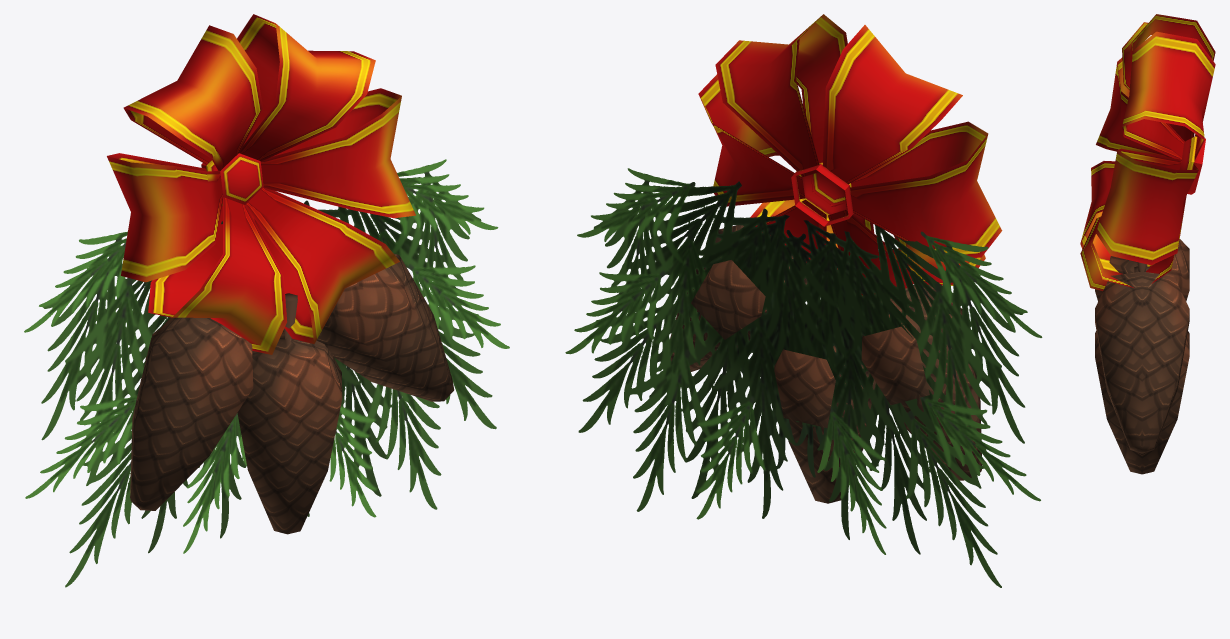
The model's file is PineFruit_Ribbon.FBX.
The picture shows the model from 3 angles, left to right: view 1: azimuth 30°, elevation 25°; view 2: azimuth 150°, elevation 25°; view 3: azimuth 270°, elevation 25°; orthographic projection. The views are drawn at different scales.
Parts seen in each view (by area): view 1: Object020; view 2: Object020; view 3: Object020.
Boxes of the visible parts, x1,y1,x2,y2 form: Object020: (24, 14, 509, 587); Object020: (565, 14, 1042, 587); Object020: (1080, 14, 1215, 474).
Size of the model in its own units: 15.45 by 16 by 4.08.
Materials: 1 (1 with a texture image).
